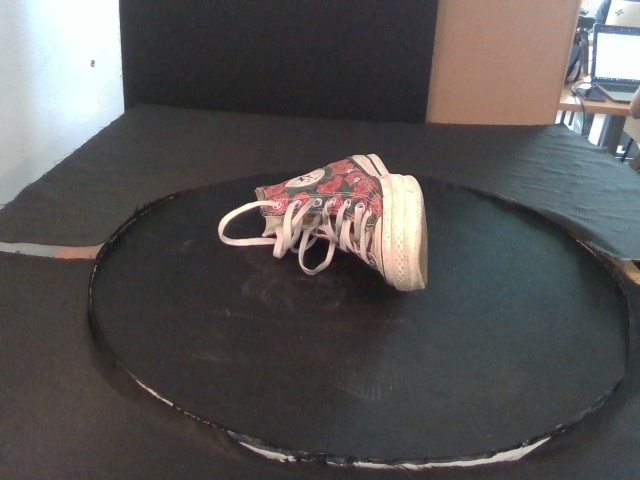shoe: (253, 154, 429, 292)
